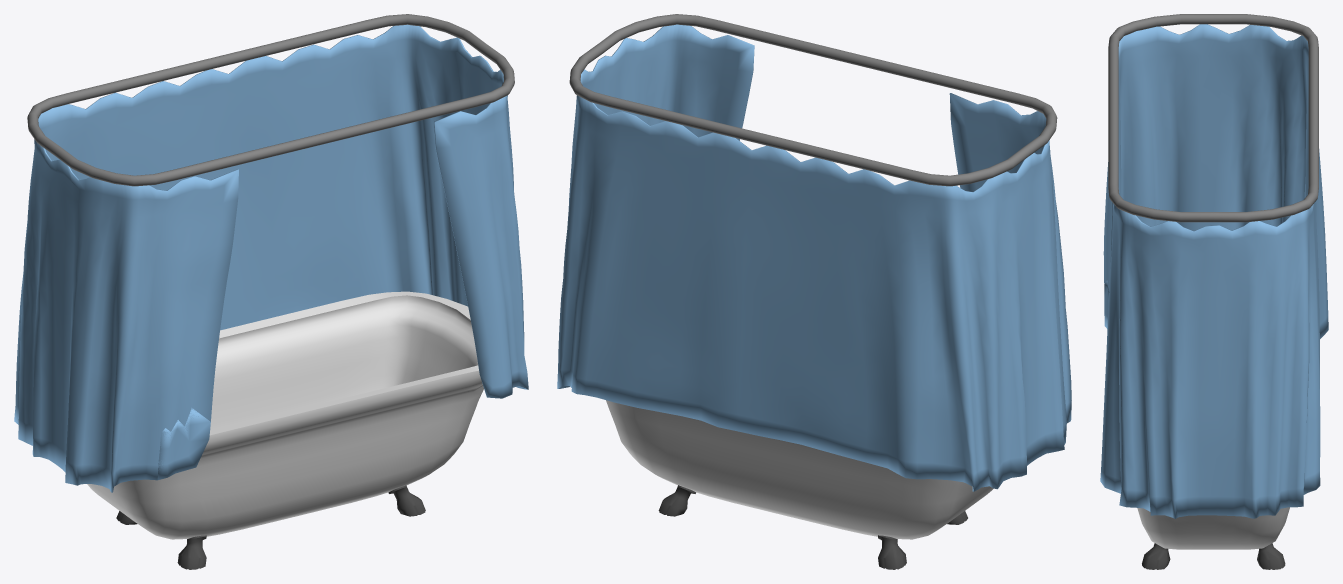
Rendered from Bath&curtain.fbx.
3 renders of one model, left to right at view 1: azimuth 30°, elevation 25°; view 2: azimuth 150°, elevation 25°; view 3: azimuth 270°, elevation 25°, orthographic. The views are drawn at different scales.
Parts seen in each view (by area): view 1: BathCurtain_Intact, Bath, BathCurtain_peice; view 2: BathCurtain_Intact, Bath; view 3: BathCurtain_Intact, Bath.
Part boxes in pixels (left/top/right/bottom): BathCurtain_Intact: left=14, top=24, right=528, bottom=492; Bath: left=27, top=14, right=514, bottom=569; BathCurtain_peice: left=157, top=408, right=210, bottom=479; BathCurtain_Intact: left=557, top=24, right=1071, bottom=491; Bath: left=569, top=14, right=1057, bottom=569; BathCurtain_Intact: left=1100, top=24, right=1328, bottom=518; Bath: left=1108, top=14, right=1318, bottom=569.
Size of the model in its own units: 125 by 111 by 57.19.
